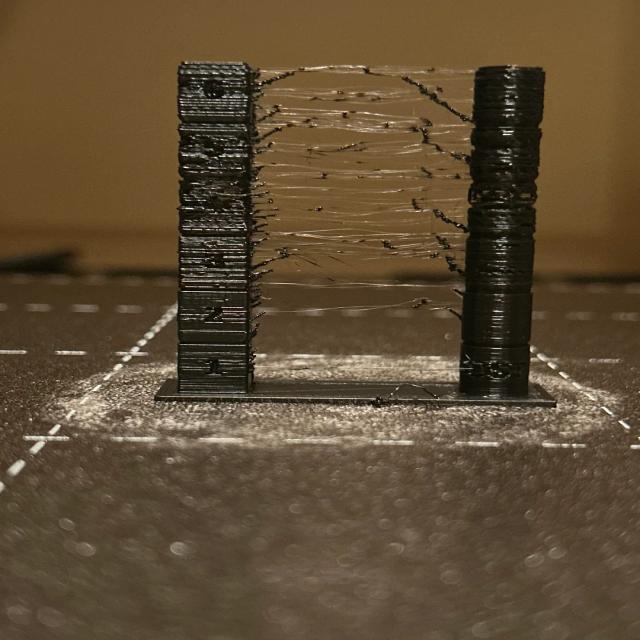stringing: (285, 86, 405, 105), (285, 230, 423, 243)
